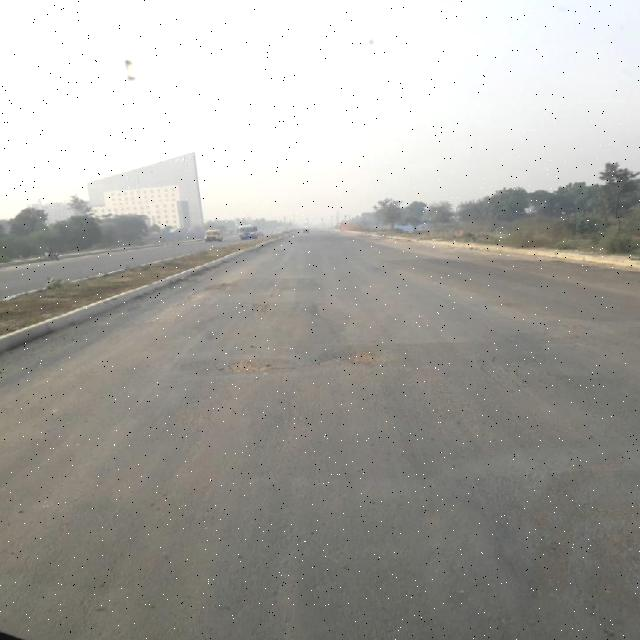D00: (534, 540, 638, 639)
D20: (473, 346, 584, 404)
D40: (217, 356, 283, 376), (316, 346, 382, 366)
